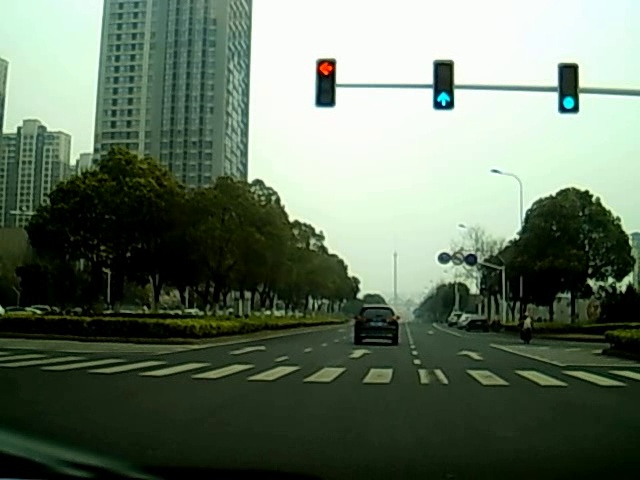Traffic_Light_go: (558, 64, 577, 114), (435, 60, 452, 108)
Traffic_Light_stop: (314, 60, 334, 106)
